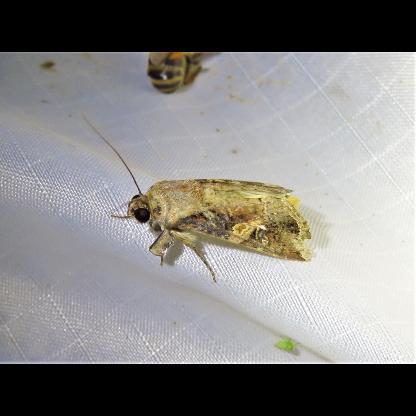Fall Armyworm Moth: (81, 114, 315, 286)
